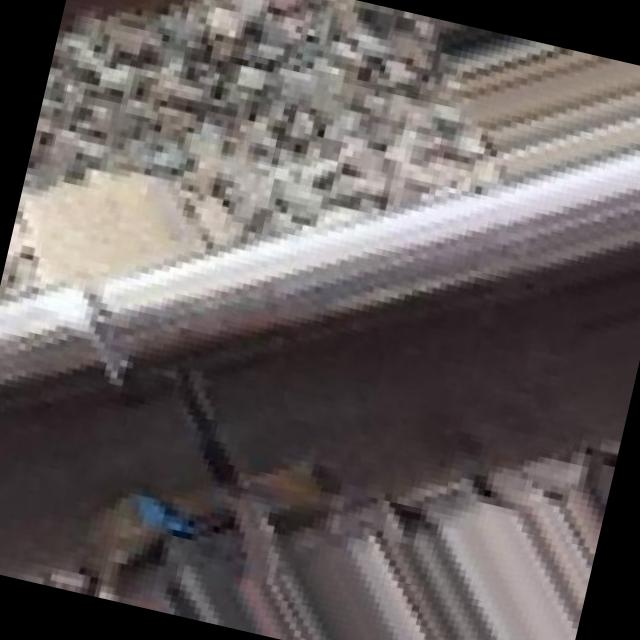defective: (0, 103, 572, 640)
